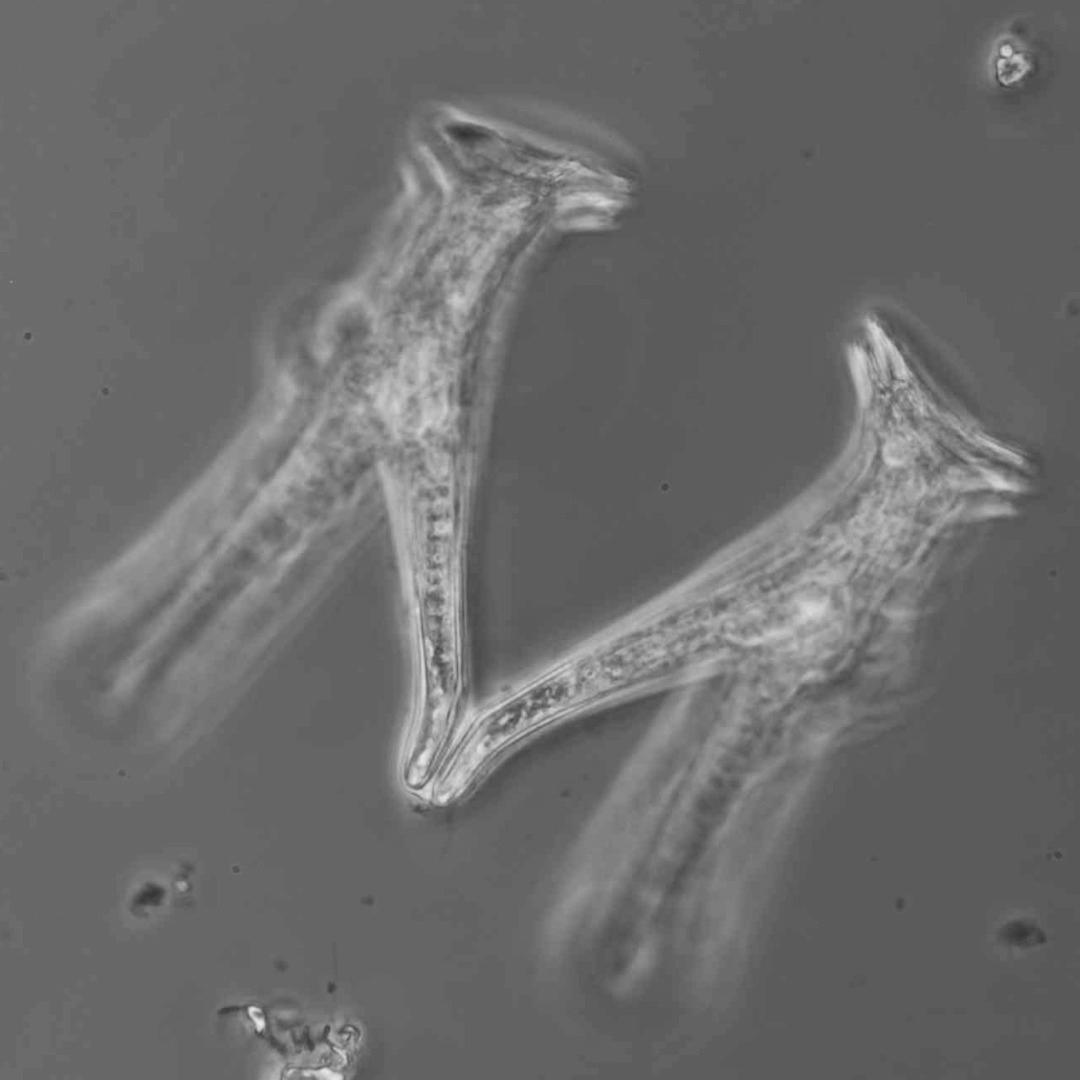dinophysis_miles: (433, 309, 1044, 994), (97, 99, 631, 781)
